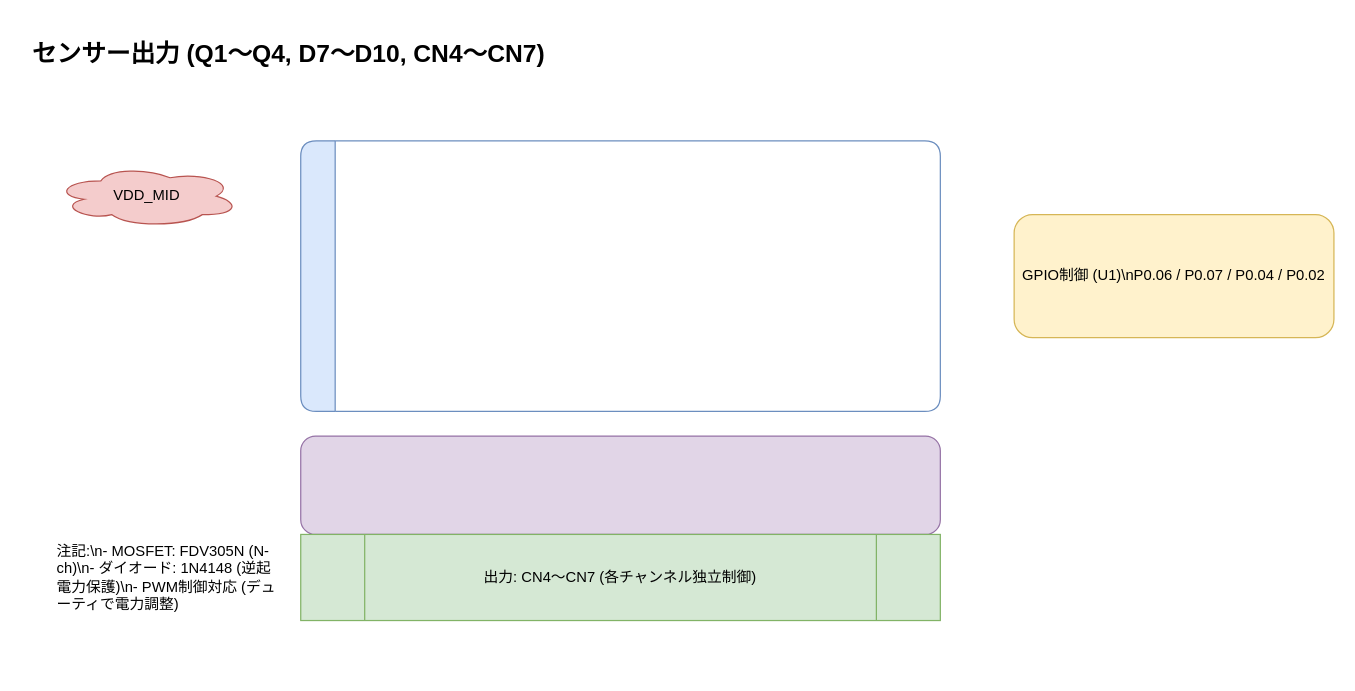
This 1355x691 diagram has some shape labels left out. Each missing label, with the centre of its shape:
"CH1: Q1 + D7 → CN4\nCH2: Q2 + D8 → CN5\nCH3: Q3 + D9 → CN6\nCH4: Q4 + D10 → CN7" belongs at (x=620, y=275).
"ゲート抵抗: R22,R24,R26,R28 (100Ω)\nプルダウン: R23,R25,R27,R29 (10kΩ)" belongs at (x=620, y=484).
